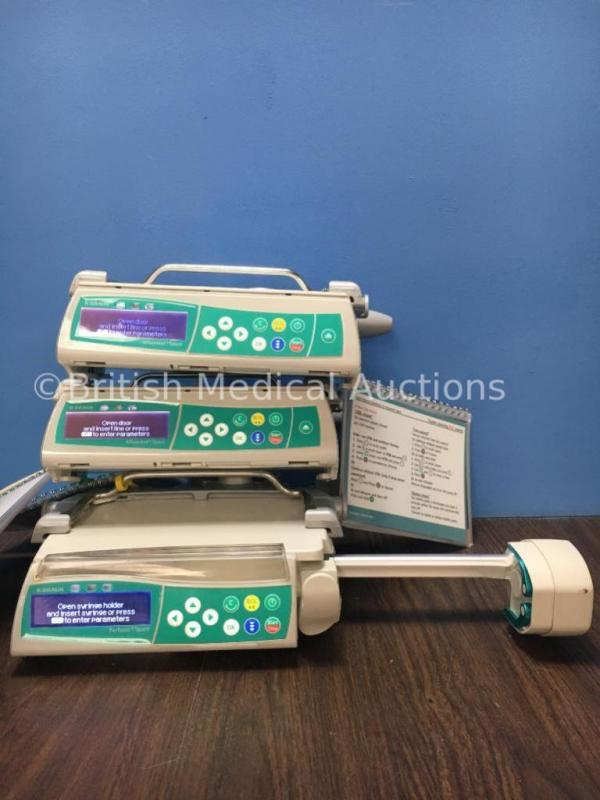BBraun Infusomat Space: (45, 259, 387, 377)
